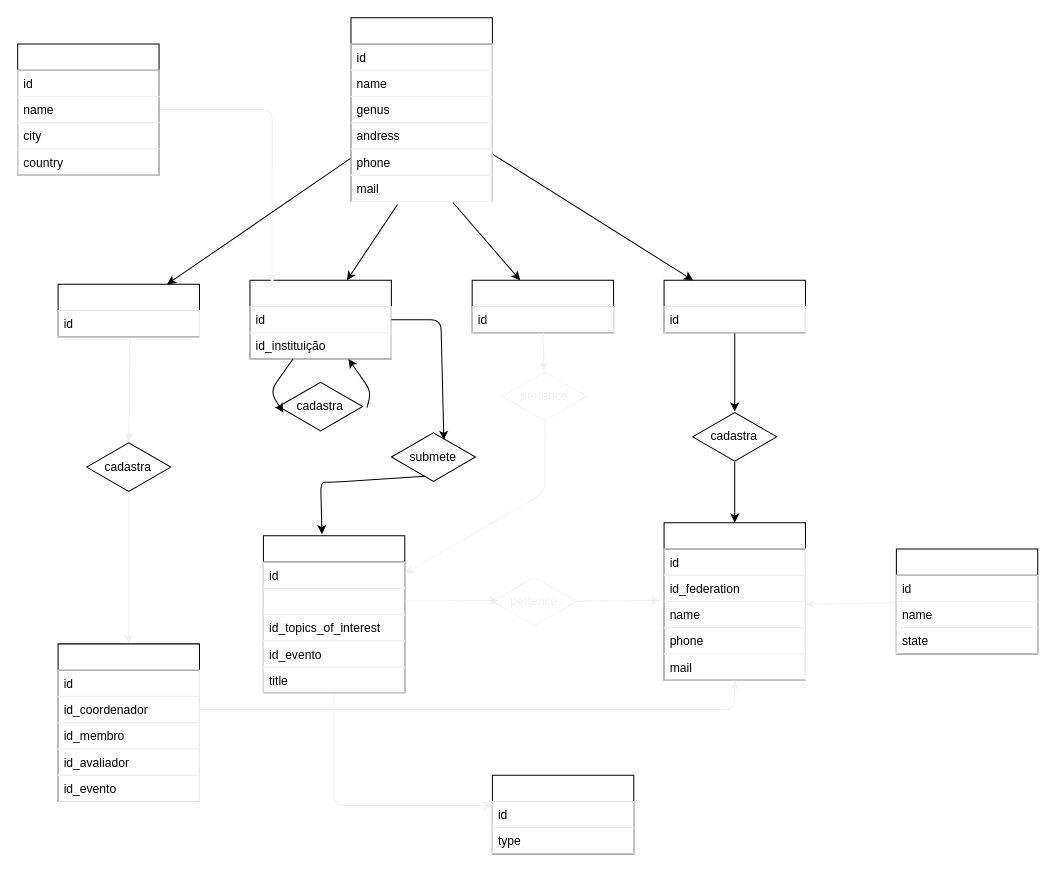
Some shapes in this 1055 by 875 pixel diagram are drawn without their labels. The shapes that lost their labels are listed below. From the top down, each one's box as (x1, y1, x2, y2) in pixels, then its label:
(17, 43, 159, 175): Instituições
(350, 17, 492, 201): Usuário
(57, 283, 199, 337): Coordenador
(249, 279, 391, 359): Membro
(471, 279, 614, 333): Avaliador
(663, 279, 805, 333): Funcionário
(262, 587, 405, 615): id_authors(membro)
(262, 535, 405, 693): Artigo
(663, 522, 805, 680): Evento
(895, 548, 1038, 654): Federação
(57, 643, 199, 801): Comite
(491, 774, 634, 854): Tópicos
